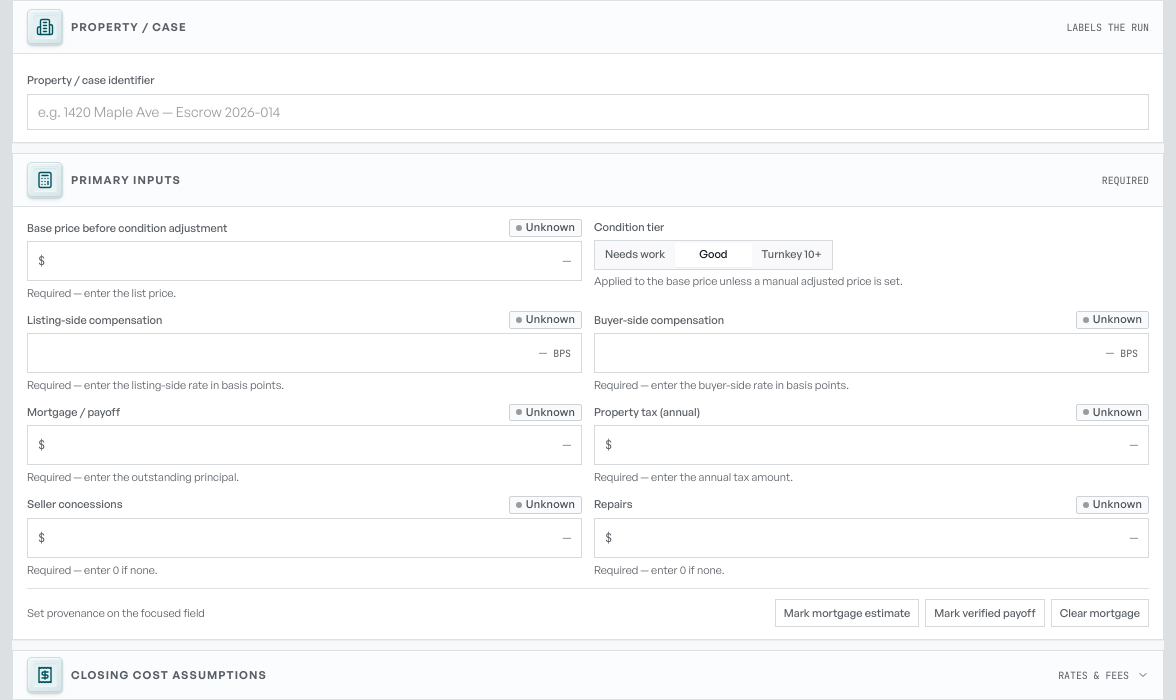
Test: provenance chip observable state › moves the chip to USER_PROVIDED when the field is typed into
Type "500000" into the field with test id "inputs.base_price" at [311, 261], box [51, 242, 571, 280]
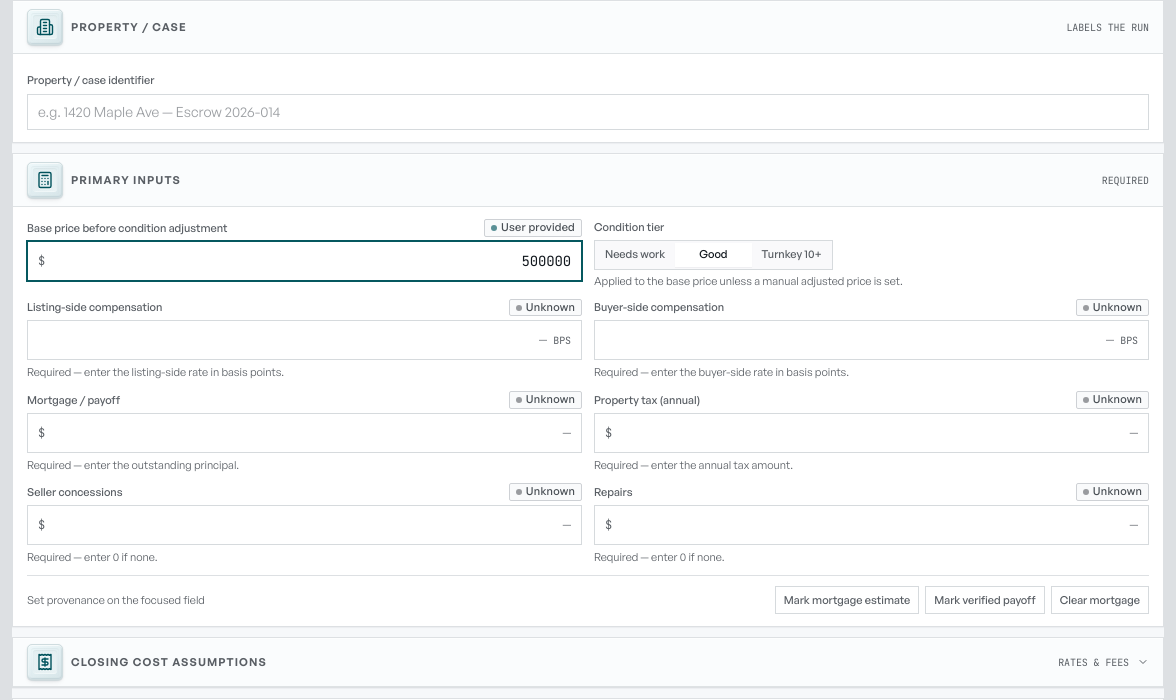
expect the element showing "User provided" is shown: met, box [484, 219, 582, 237]
